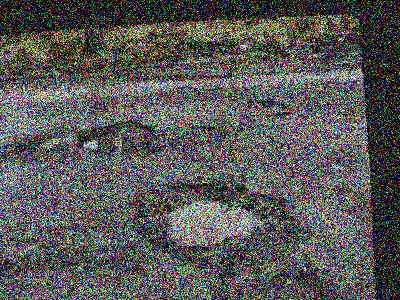pothole: (127, 170, 306, 275), (206, 263, 334, 300), (71, 115, 159, 163), (247, 95, 286, 112), (272, 108, 305, 122)
